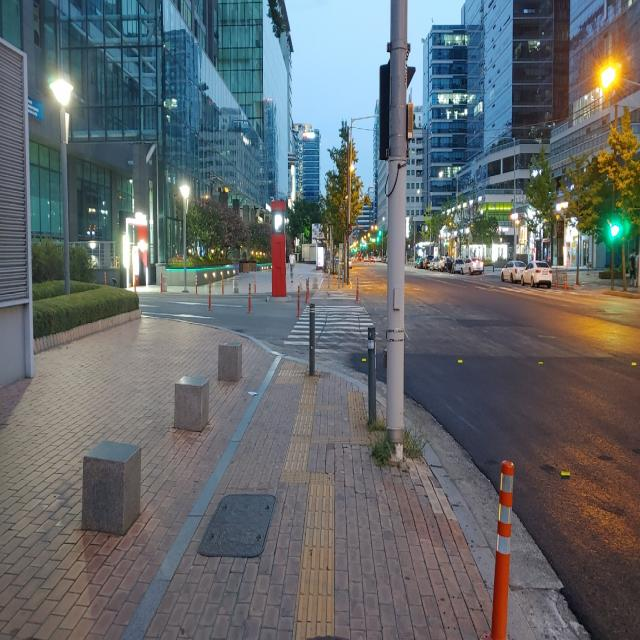횡단보도: (284, 290, 382, 354)
